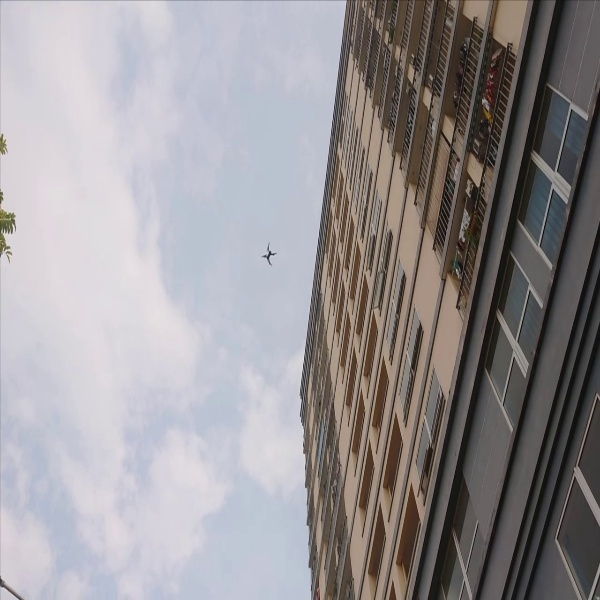drone: (253, 240, 279, 267)
